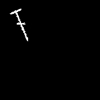double_crochet: (11, 9, 27, 40)
